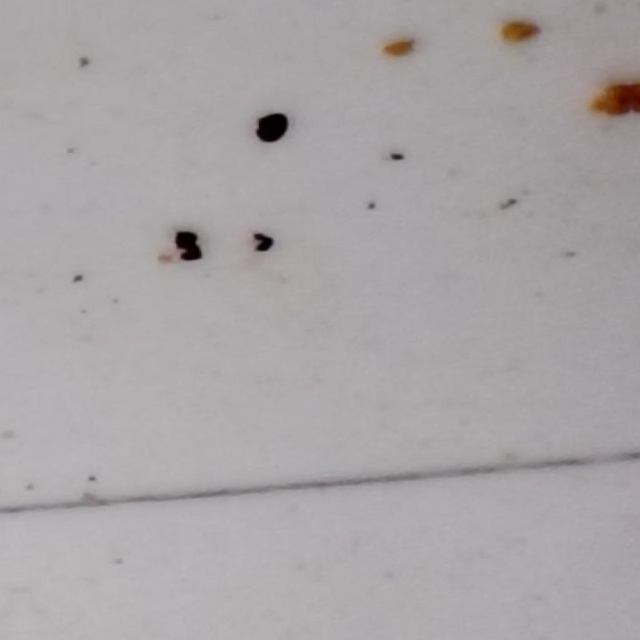varroa: (249, 108, 292, 149)
